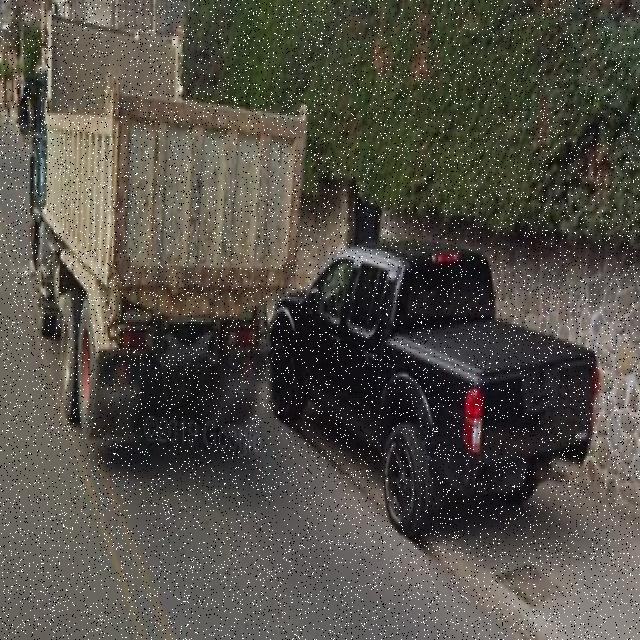cars: (270, 233, 597, 538)
